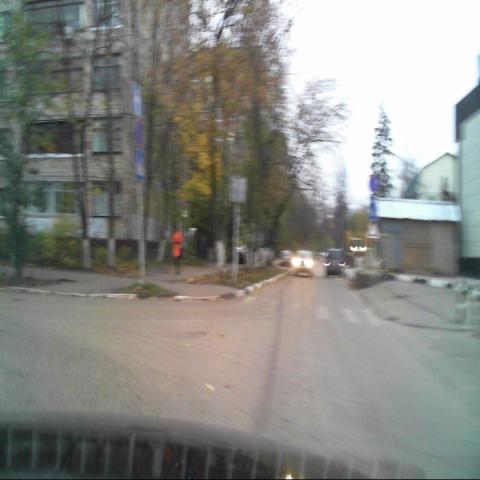1_17: (368, 221, 378, 238)
3_28: (369, 175, 378, 192)
